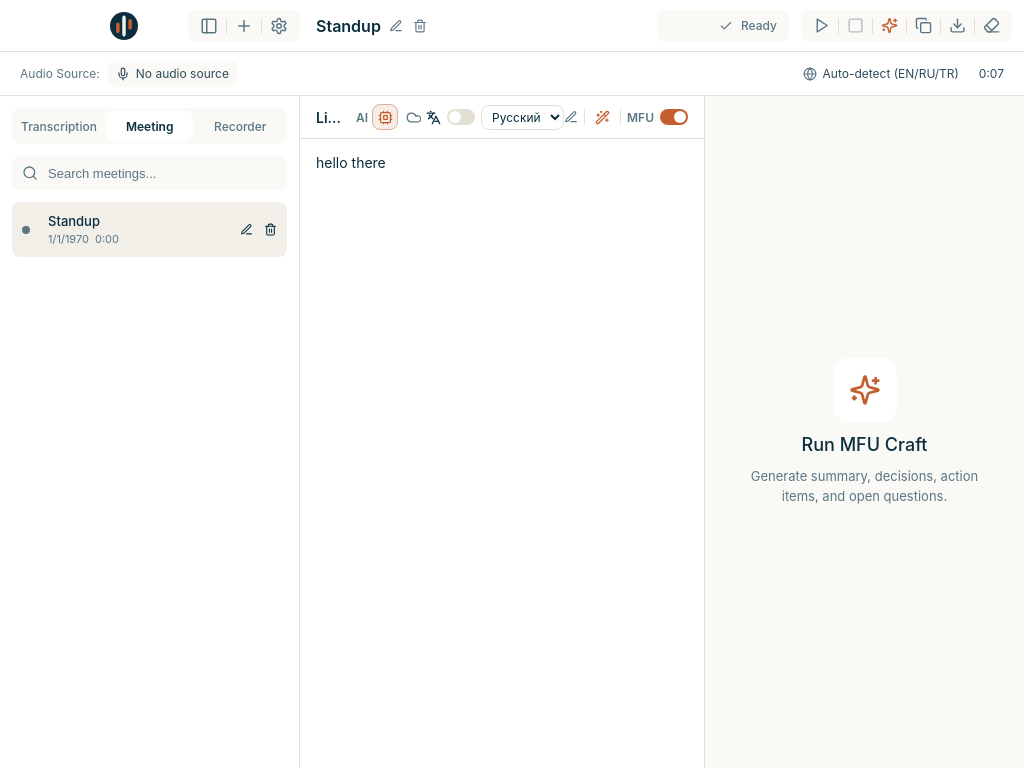
Test: StreamingView — mfu › Craft / MFU › shows the error banner and MFU Failed on a Craft failure
This screenshot has width=1024, height=768.
Click the text "Standup".
click(74, 221)  # box top-left (48, 213), bottom-right (100, 229)
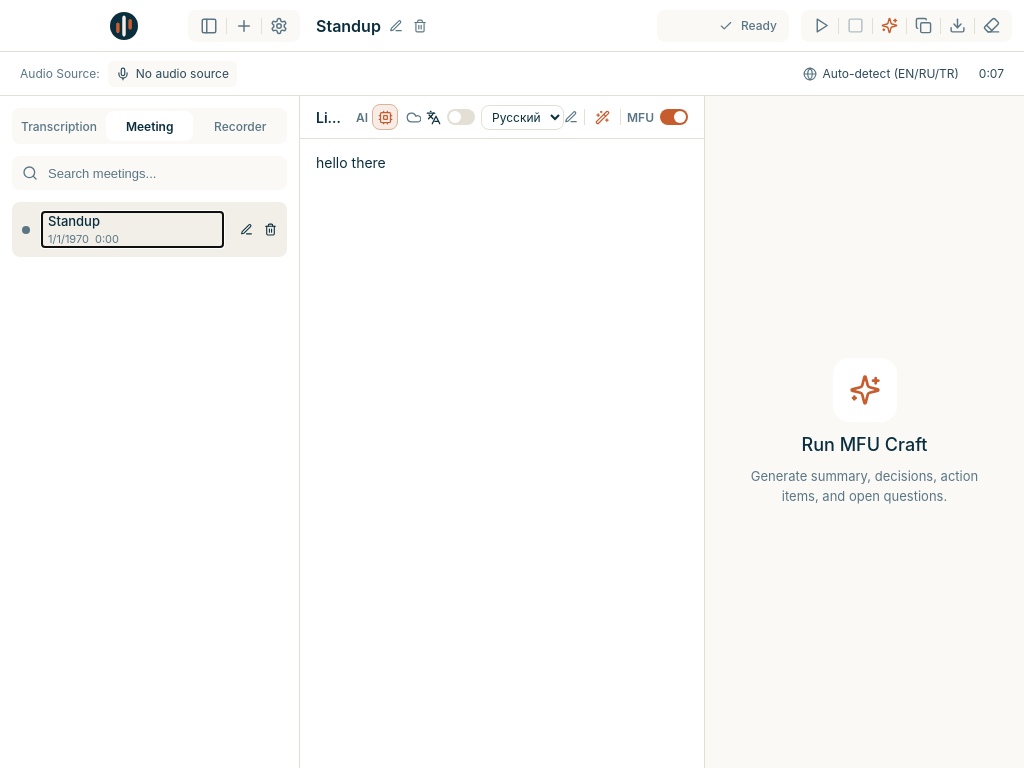
Click the button named "Craft MFU".
click(890, 26)  # box top-left (877, 13), bottom-right (902, 38)
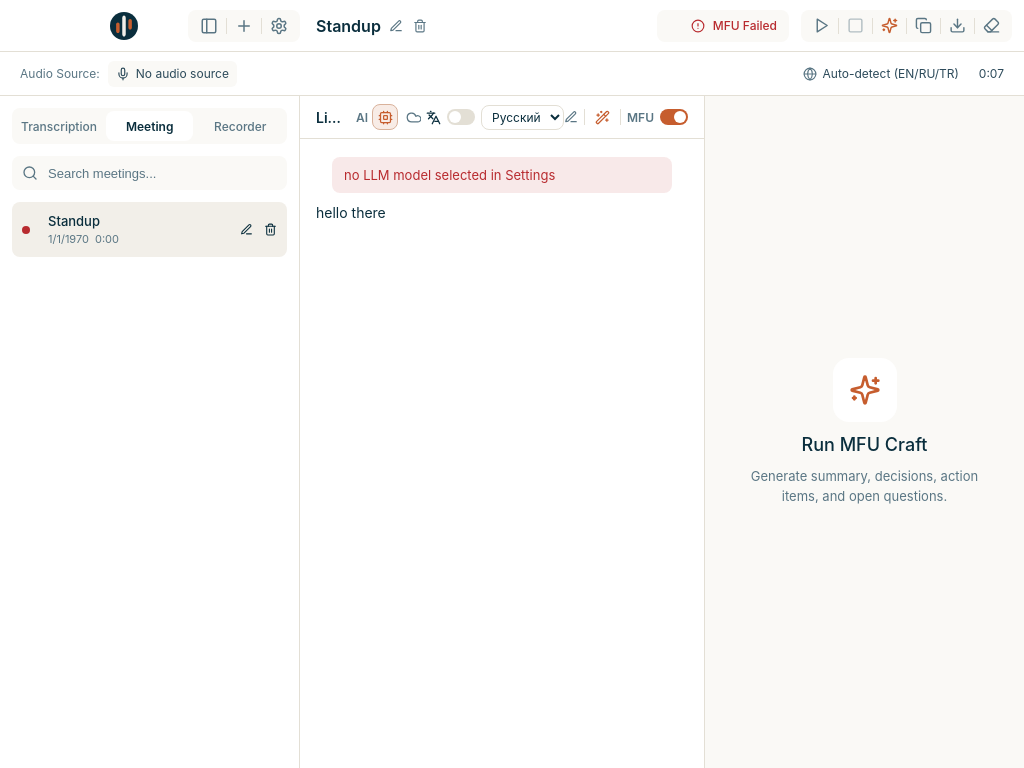
Expected: the text "no LLM model selected in Settings" is shown, top-left (332, 157), bottom-right (672, 193)
Expected: the message "MFU Failed" is shown, top-left (657, 10), bottom-right (789, 42)
